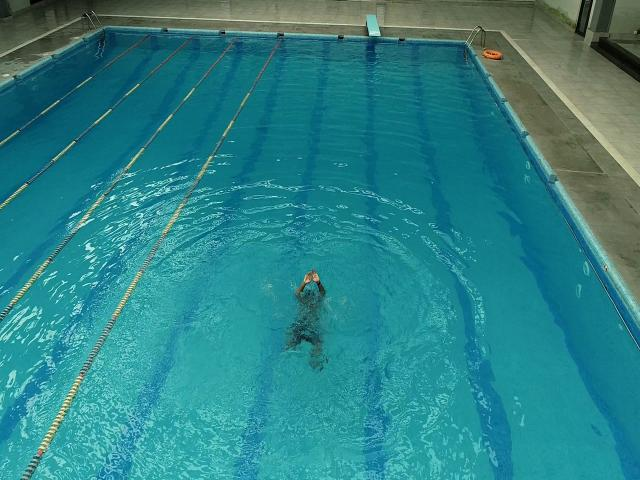drowning: (286, 268, 326, 368)
